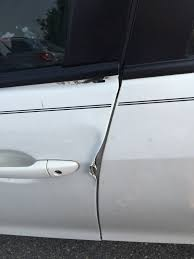Dent: (84, 133, 112, 185)
Scratch: (53, 75, 107, 97)
